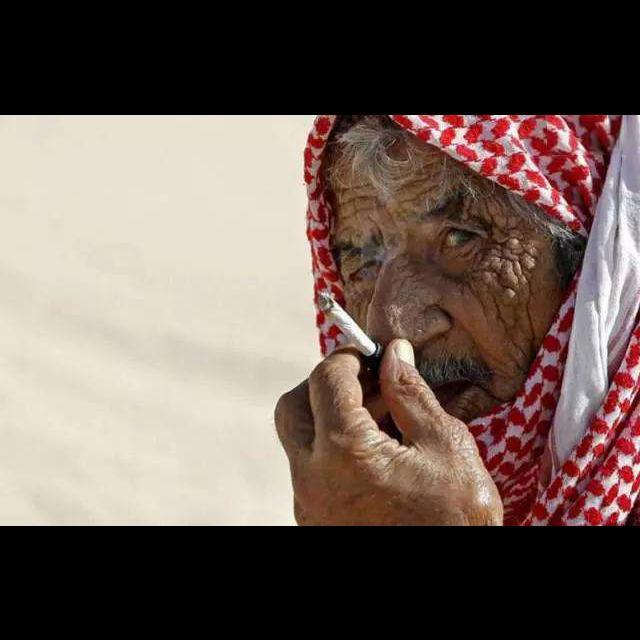rokok: (312, 282, 380, 360)
